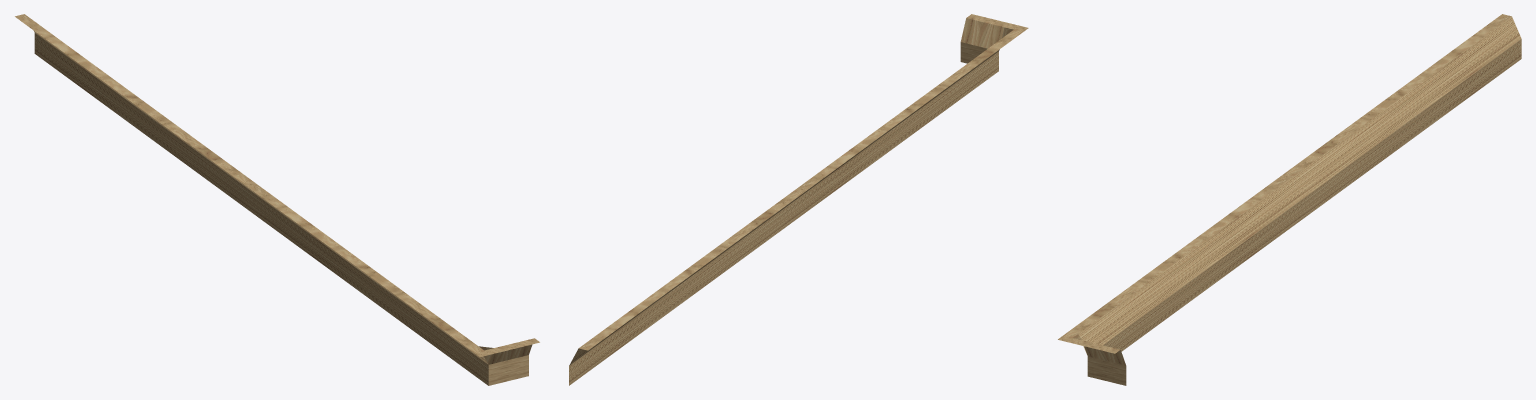
The model's file is SkirtingBoardGroundInnerCornerCustom006.FBX.
3 views of the same model, side by side, from view 1: azimuth 30°, elevation 25°; view 2: azimuth 150°, elevation 25°; view 3: azimuth 330°, elevation 25° (orthographic). The views are drawn at different scales.
Parts seen in each view (by area): view 1: SkirtingBoardGroundInnerCornerCustom006; view 2: SkirtingBoardGroundInnerCornerCustom006; view 3: SkirtingBoardGroundInnerCornerCustom006.
Boxes of the visible parts, x1,y1,x2,y2 form: SkirtingBoardGroundInnerCornerCustom006: [15, 14, 539, 385]; SkirtingBoardGroundInnerCornerCustom006: [569, 14, 1028, 385]; SkirtingBoardGroundInnerCornerCustom006: [1058, 14, 1521, 385].
Bounding box in the file's own units: 15 × 10 × 200.
